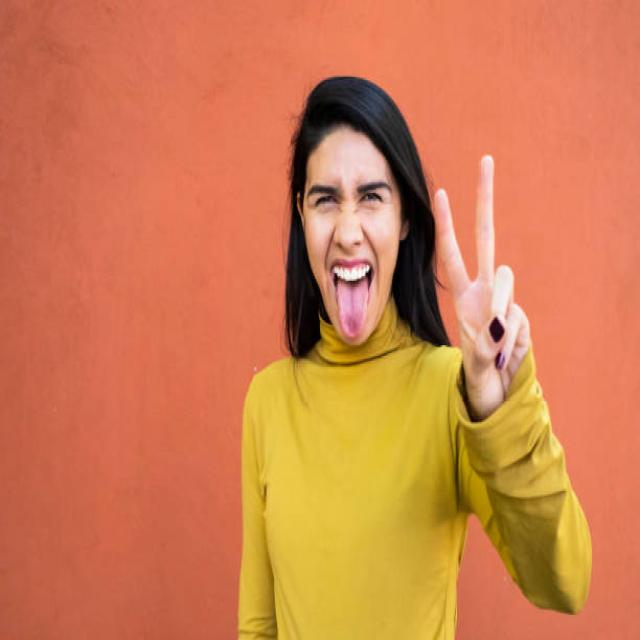tongue: (334, 278, 372, 343)
